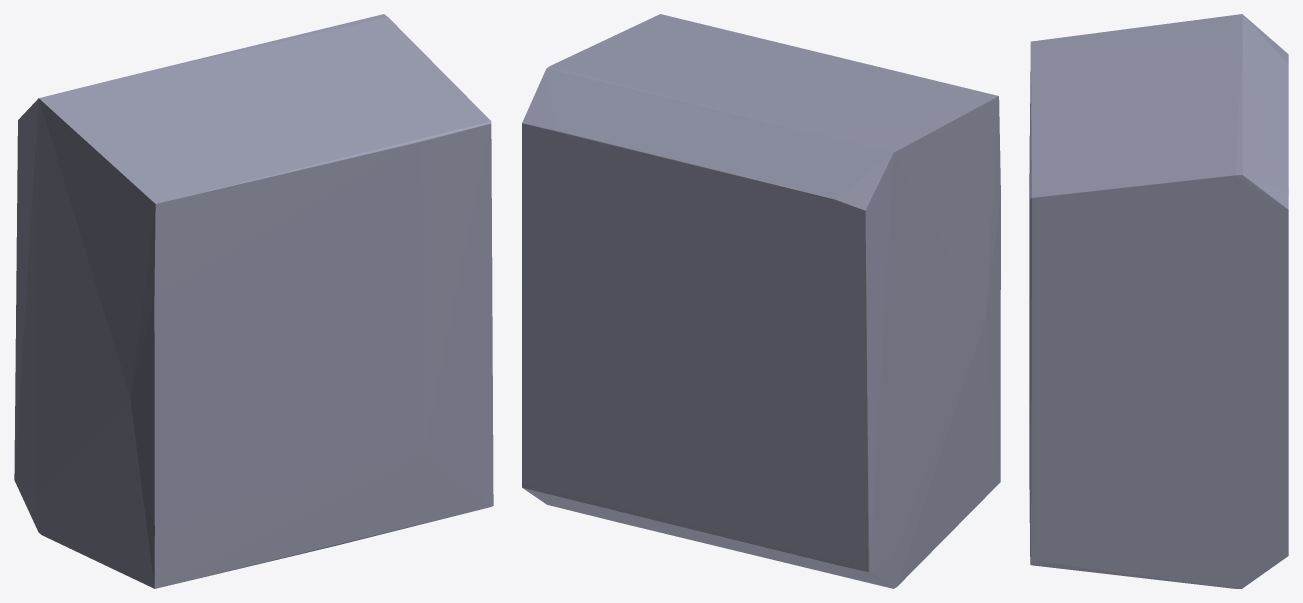
File: box_cardboard_large_a02.glb
3 views of the same model, side by side, from view 1: azimuth 30°, elevation 25°; view 2: azimuth 150°, elevation 25°; view 3: azimuth 270°, elevation 25° (orthographic). The views are drawn at different scales.
Visible parts, largest first — view 1: geometry_0; view 2: geometry_0; view 3: geometry_0.
Boxes of the visible parts, box(x1,y1,x2,y2) form: geometry_0: box(14, 14, 493, 588); geometry_0: box(522, 14, 1000, 588); geometry_0: box(1029, 14, 1288, 588).
Size of the model in its own units: 0.3993 by 0.4796 by 0.2719.
